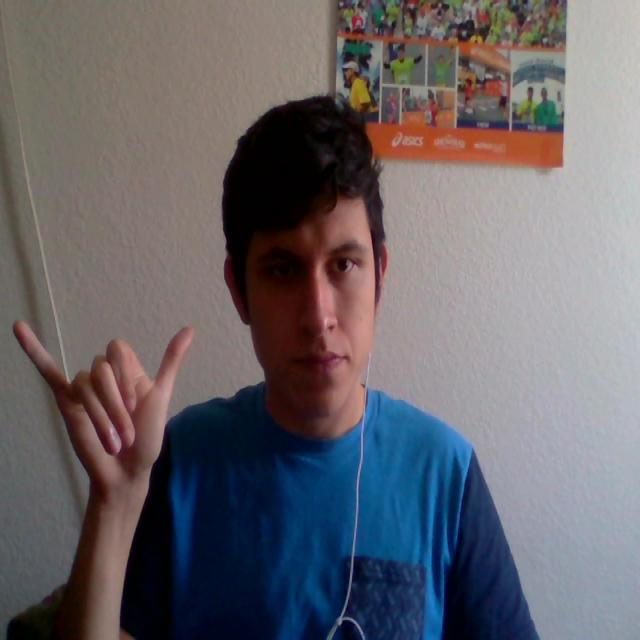Y: (7, 288, 228, 532)
